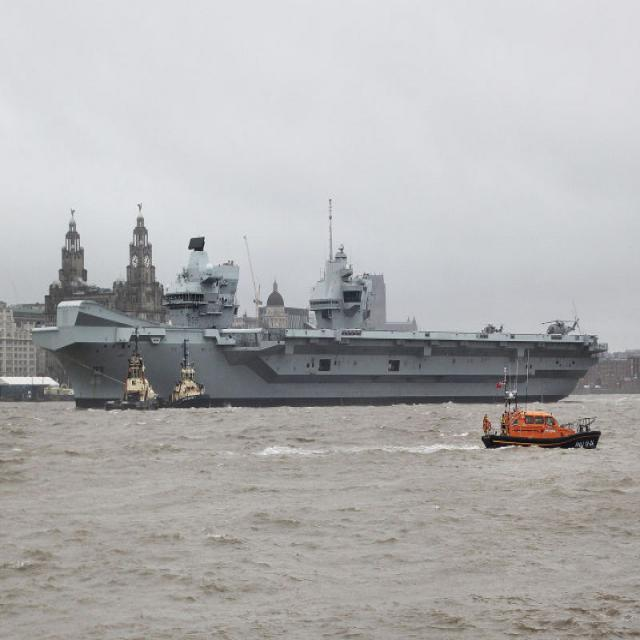Portanaves: (31, 184, 612, 415)
